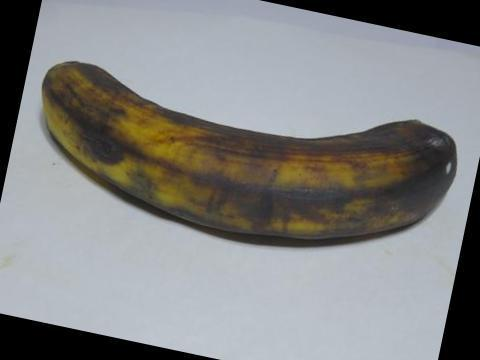overripe: (24, 38, 478, 282)
